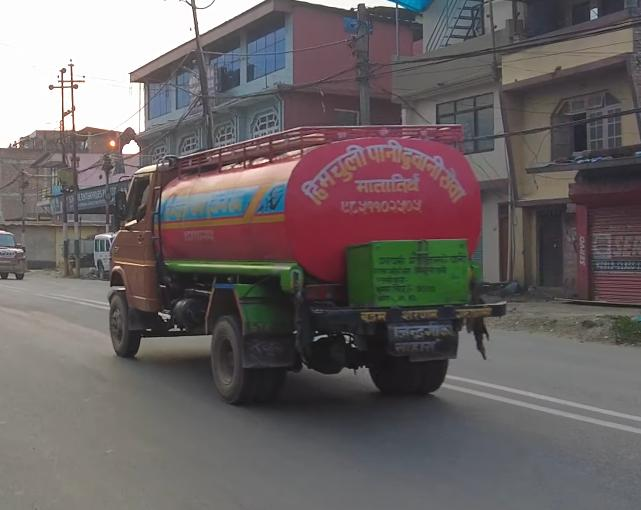SUV: (0, 227, 28, 283)
truck: (105, 123, 506, 404)
